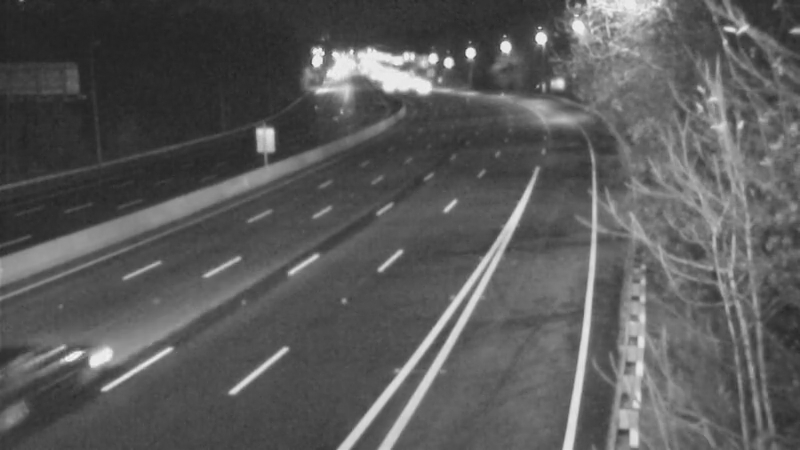vehicle: (1, 336, 99, 446)
